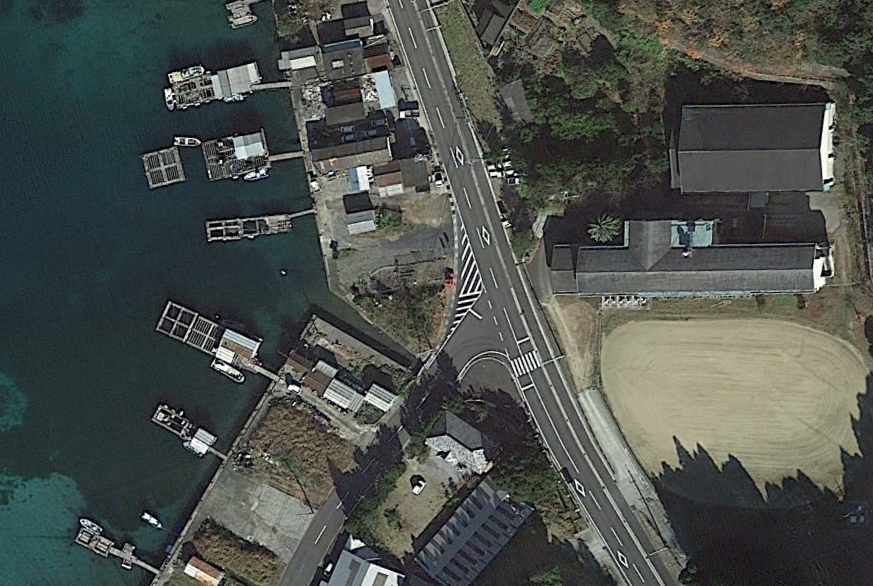house: (542, 215, 842, 309), (662, 97, 843, 201), (419, 411, 504, 472), (307, 140, 398, 169), (496, 76, 535, 128), (318, 372, 359, 413), (468, 6, 509, 44), (344, 206, 384, 241), (318, 103, 378, 124), (372, 166, 410, 199), (180, 554, 218, 586), (364, 378, 392, 418), (340, 14, 382, 39)
ship: (209, 353, 246, 386), (165, 63, 209, 83), (139, 509, 165, 533), (168, 130, 201, 147), (76, 516, 104, 535), (240, 168, 273, 181), (224, 15, 262, 26), (182, 441, 206, 456), (162, 86, 176, 111)
square: (153, 295, 202, 345), (136, 141, 187, 187)
